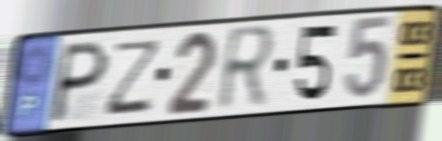2: (167, 28, 220, 119)
5: (342, 13, 394, 105), (293, 24, 337, 104)
P: (46, 37, 113, 125)
R: (214, 22, 279, 117)
Z: (101, 36, 166, 119)
